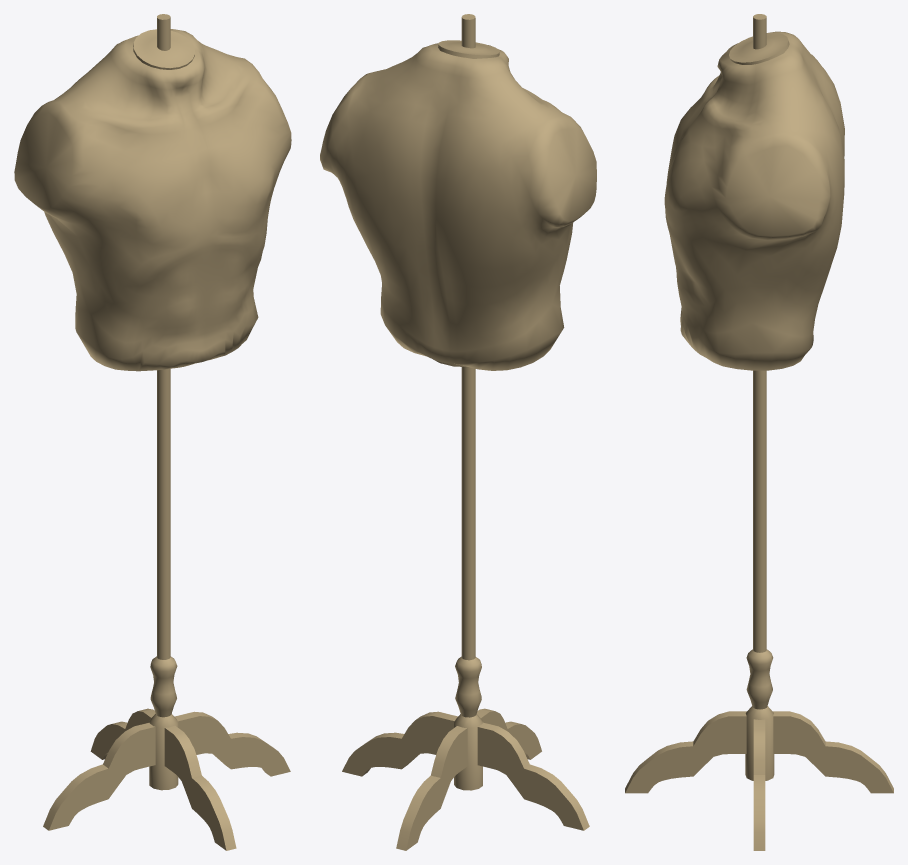
Rendered from Ordinary_mannequins_male.fbx.
3 views of the same model, side by side, from view 1: azimuth 30°, elevation 25°; view 2: azimuth 150°, elevation 25°; view 3: azimuth 270°, elevation 25° (orthographic).
Parts seen in each view (by area): view 1: Ordinary_mannequins_male_LOD0; view 2: Ordinary_mannequins_male_LOD0; view 3: Ordinary_mannequins_male_LOD0.
Boxes of the visible parts, x1,y1,x2,y2 form: Ordinary_mannequins_male_LOD0: [14, 14, 291, 850]; Ordinary_mannequins_male_LOD0: [320, 14, 596, 850]; Ordinary_mannequins_male_LOD0: [625, 14, 893, 850].
Bounding box in the file's own units: 106 × 322 × 101.
